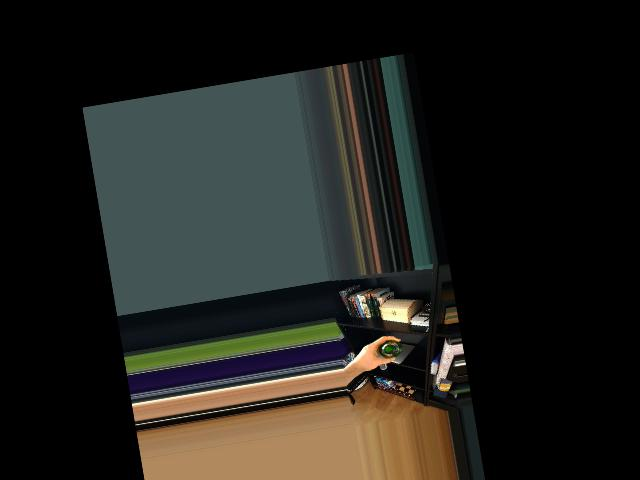beer: (377, 339, 402, 360)
